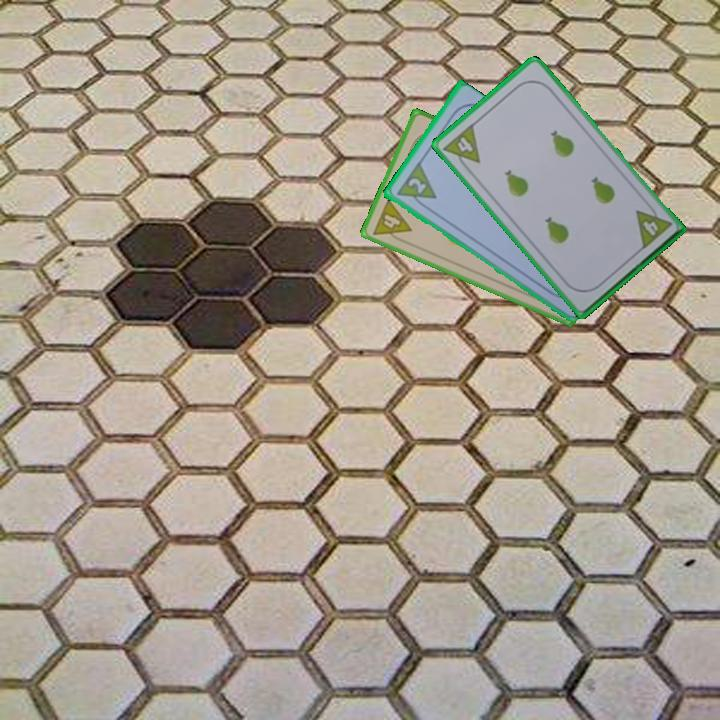2p: (392, 160, 439, 213)
4p: (369, 195, 414, 247), (440, 120, 483, 174), (632, 199, 674, 252)
